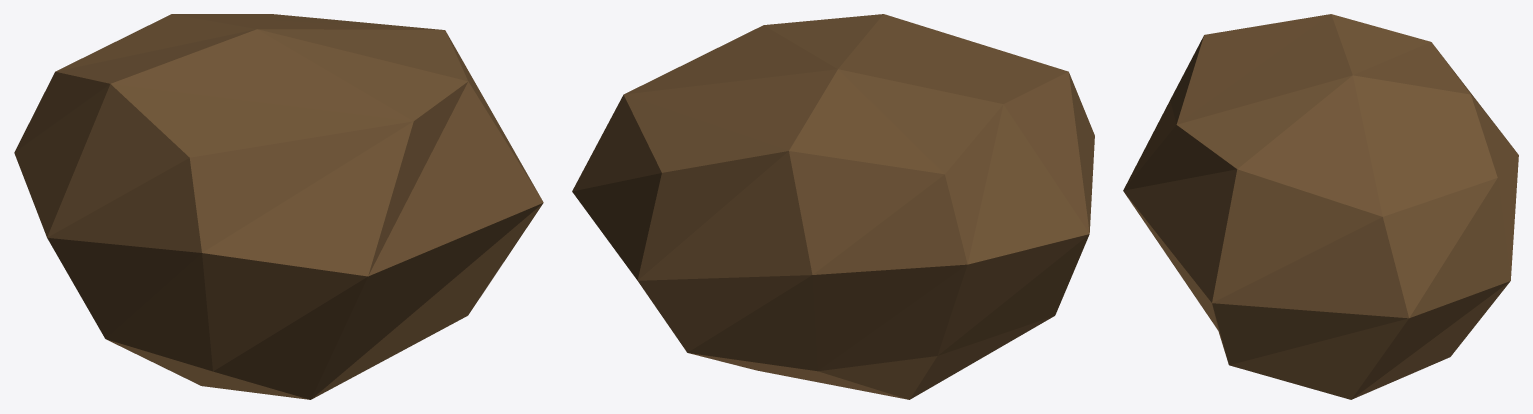
The model's file is rock03.fbx.
3 renders of one model, left to right at view 1: azimuth 30°, elevation 25°; view 2: azimuth 150°, elevation 25°; view 3: azimuth 270°, elevation 25°, orthographic. The views are drawn at different scales.
Visible parts, largest first — view 1: rock3; view 2: rock3; view 3: rock3.
Boxes of the visible parts, bbox=[...] form: rock3: bbox=[14, 14, 543, 399]; rock3: bbox=[572, 14, 1094, 399]; rock3: bbox=[1123, 14, 1518, 399].
Size of the model in its own units: 130 by 86.64 by 108.
